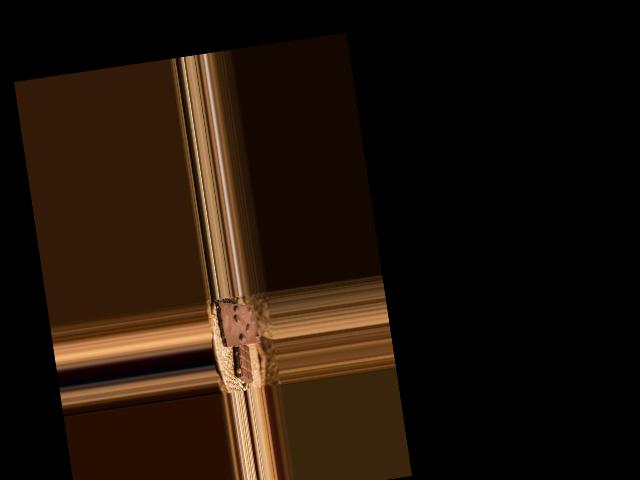chocolate: (215, 296, 261, 351)
